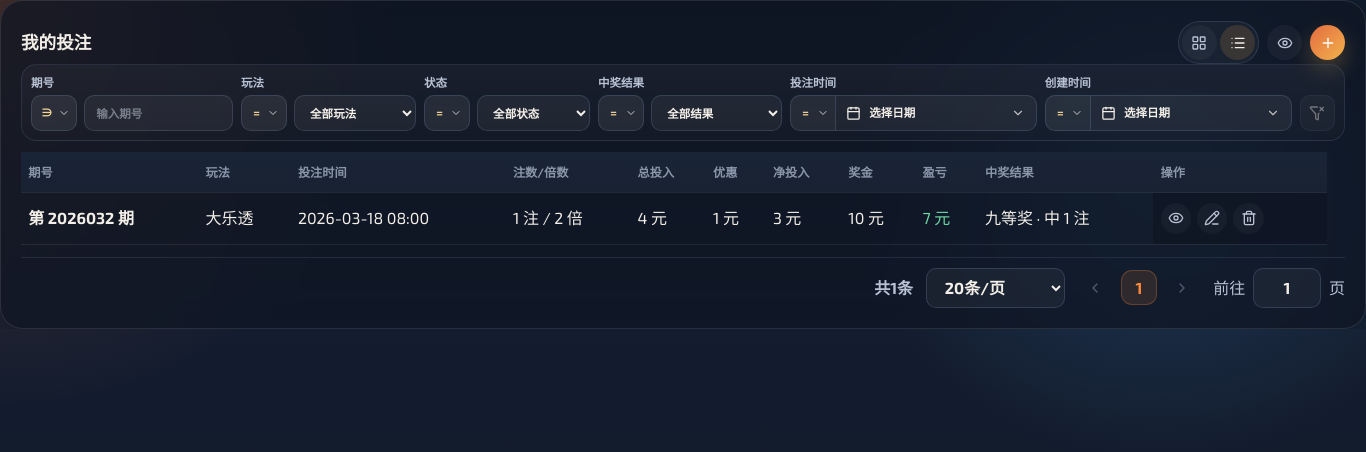
Test: MyBetsPanel › hides the field input when the operator is empty
The image size is (1366, 452).
Expected: the heading "我的投注" is shown, [21,29,91,56]
Click the button named "期号条件符：包含": (54, 113) [31,95,77,131]
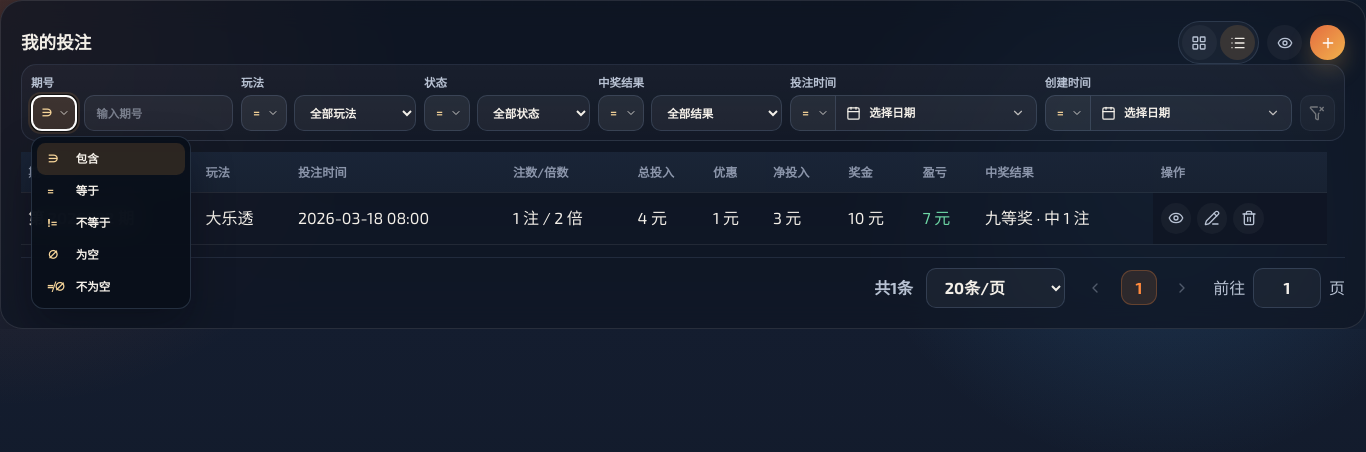
Click the menu item "∅ 为空": (111, 254) [37,238,185,270]
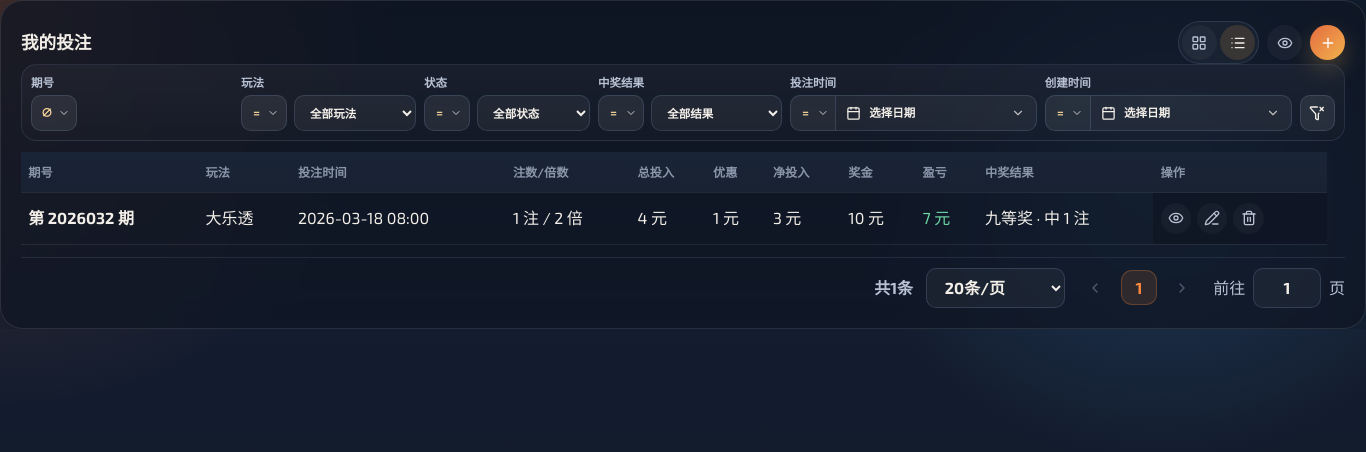
Result: the field labelled "筛选期号" is gone
